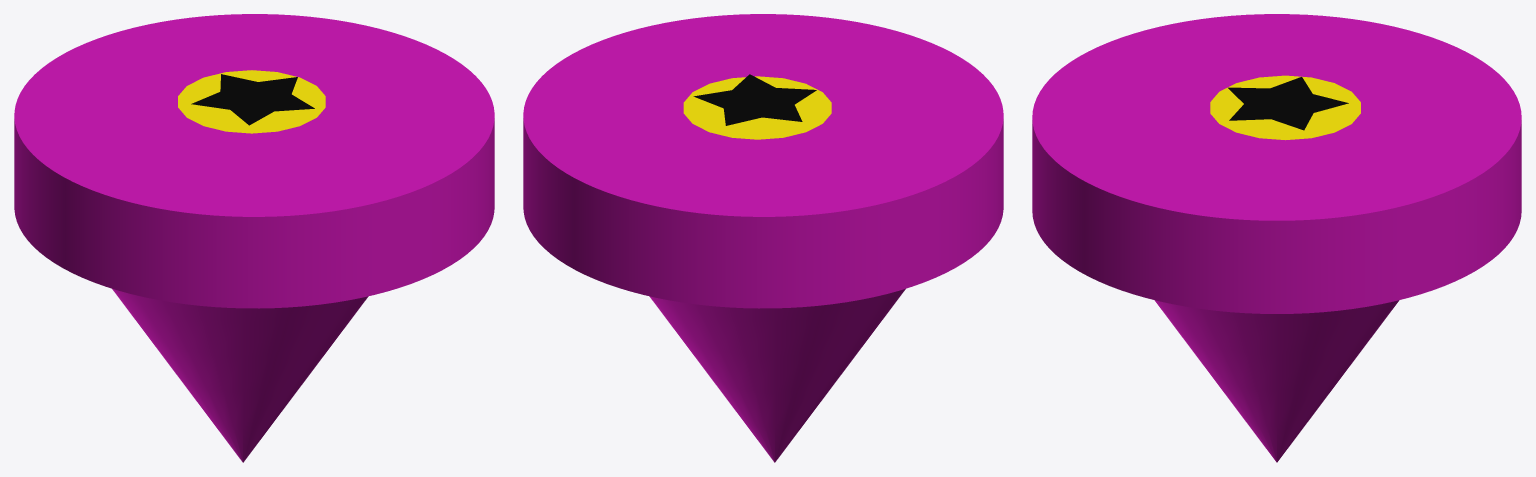
The model's file is player.FBX.
The picture shows the model from 3 angles, left to right: view 1: azimuth 30°, elevation 25°; view 2: azimuth 150°, elevation 25°; view 3: azimuth 270°, elevation 25°; orthographic projection.
Parts seen in each view (by area): view 1: top, core, bit, beast; view 2: top, core, bit, beast; view 3: top, core, bit, beast.
Part boxes in pixels (x1,y1,x2,y2): top: (14, 14, 494, 308); core: (112, 288, 368, 462); bit: (178, 70, 325, 133); beast: (191, 74, 314, 125); top: (523, 14, 1003, 308); core: (649, 288, 905, 462); bit: (683, 76, 831, 139); beast: (693, 74, 816, 125); top: (1032, 14, 1521, 313); core: (1154, 300, 1399, 462); bit: (1210, 75, 1360, 140); beast: (1228, 77, 1348, 130).
Bounding box in the file's own units: 38.59 × 31.88 × 38.59.
